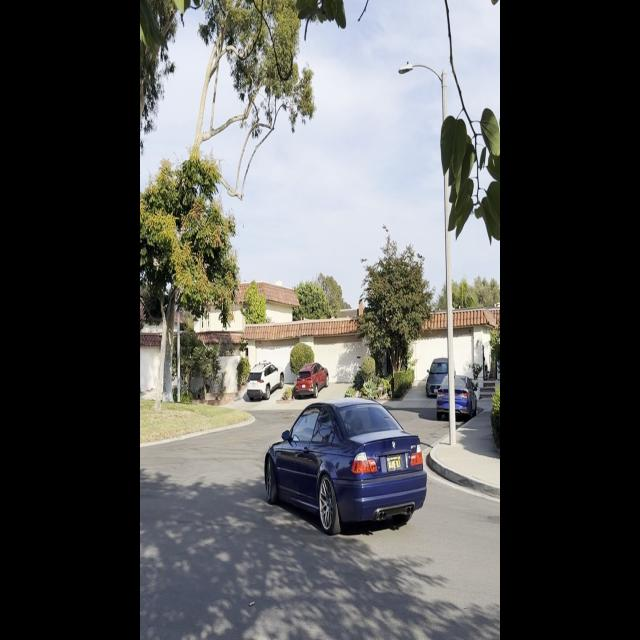Carbeetle: (262, 391, 434, 546)
Civilian: (432, 369, 479, 426), (245, 356, 286, 404), (425, 347, 456, 399), (294, 357, 331, 399)
